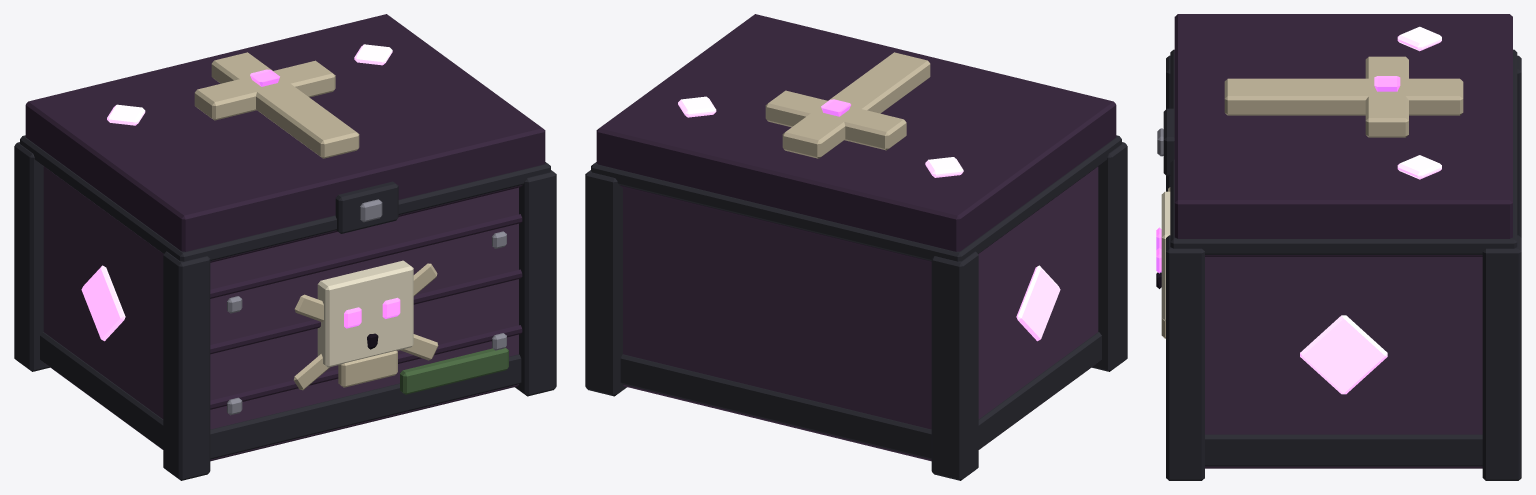
File: myw_crate_zone8.glb
The picture shows the model from 3 angles, left to right: view 1: azimuth 30°, elevation 25°; view 2: azimuth 150°, elevation 25°; view 3: azimuth 270°, elevation 25°; orthographic projection. The views are drawn at different scales.
Visible parts, largest first — view 1: Body, Lid; view 2: Body, Lid; view 3: Lid, Body.
Boxes of the visible parts, x1=… form: Body: x1=14, y1=142, x2=556, y2=480; Lid: x1=20, y1=14, x2=550, y2=262; Body: x1=585, y1=142, x2=1127, y2=480; Lid: x1=591, y1=14, x2=1121, y2=262; Lid: x1=1157, y1=14, x2=1517, y2=256; Body: x1=1156, y1=55, x2=1521, y2=480.
Bounding box in the file's own units: 2.14 × 1.54 × 1.69.
